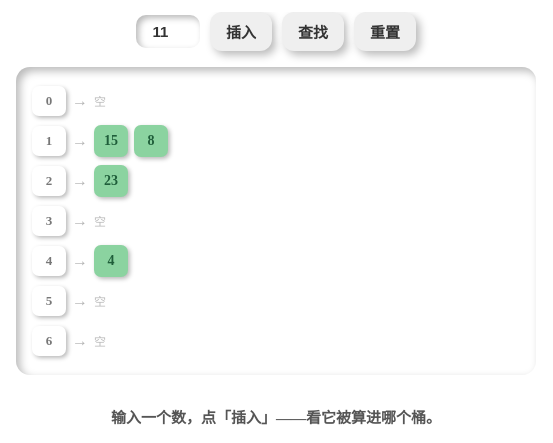
Scenario: HashViz › TC-VIZ-HASHVIZ-02 insert 空桶直放
Replace the text in the number field named "值" with "7" at (168,32), box [136, 15, 200, 48]
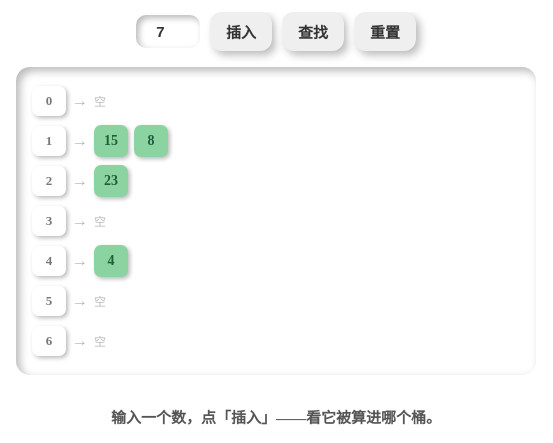
Click the button "插入".
click(241, 32)  # box [210, 12, 272, 51]
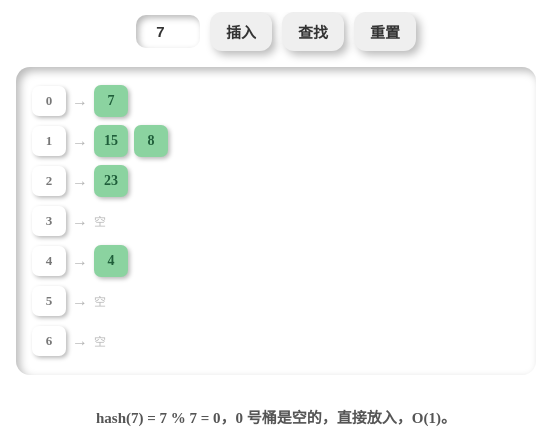
Now the text with class "entry" reads "7", box [108, 93, 114, 108]
